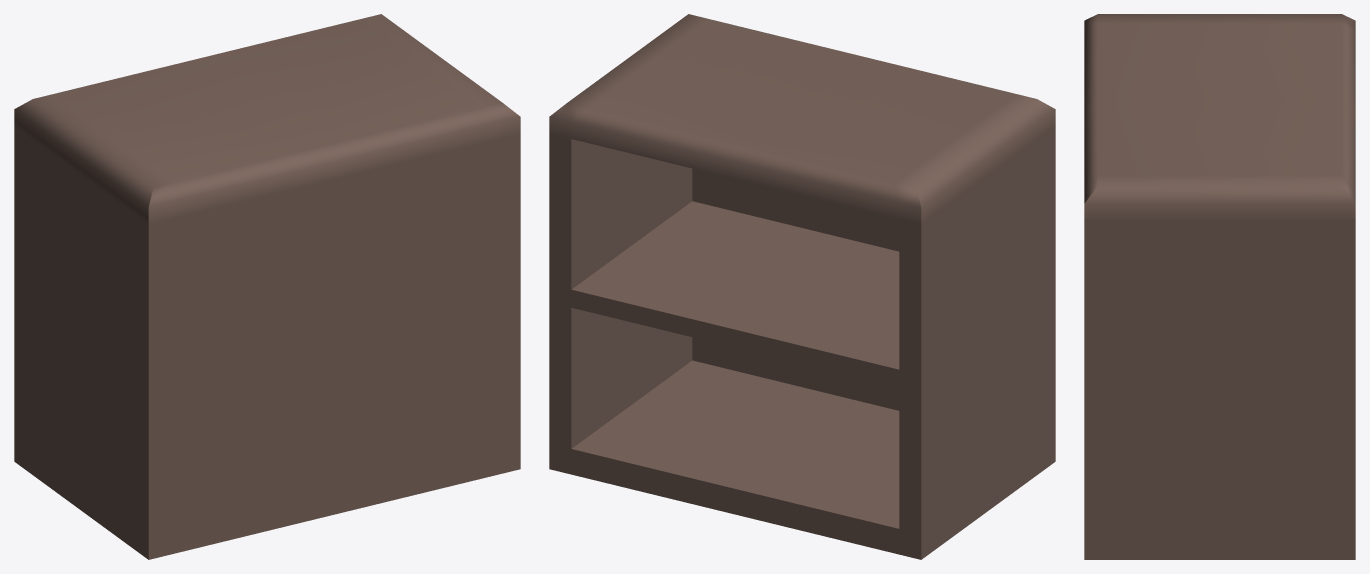
Rendered from SM_Cabinet.fbx.
3 renders of one model, left to right at view 1: azimuth 30°, elevation 25°; view 2: azimuth 150°, elevation 25°; view 3: azimuth 270°, elevation 25°, orthographic.
Parts seen in each view (by area): view 1: pCube1; view 2: pCube1; view 3: pCube1.
Boxes of the visible parts, bbox=[...] form: pCube1: bbox=[14, 14, 520, 559]; pCube1: bbox=[549, 14, 1055, 559]; pCube1: bbox=[1084, 14, 1355, 559].
Bounding box in the file's own units: 64 × 60 × 40.
